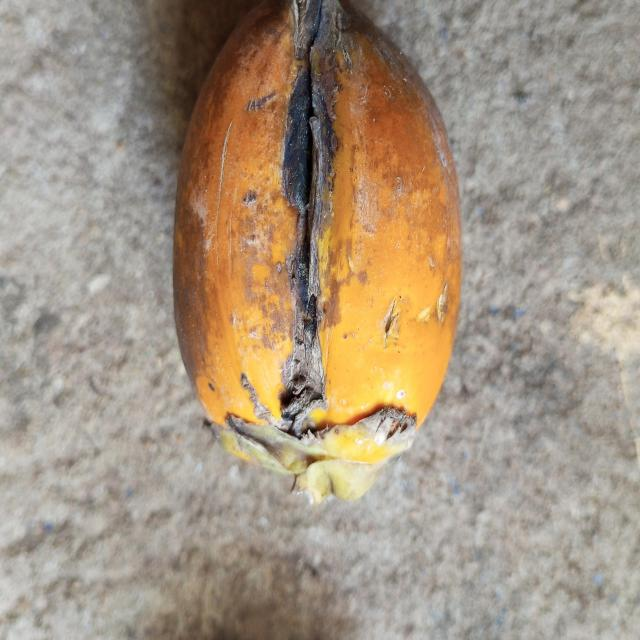damaged: (174, 0, 461, 504)
